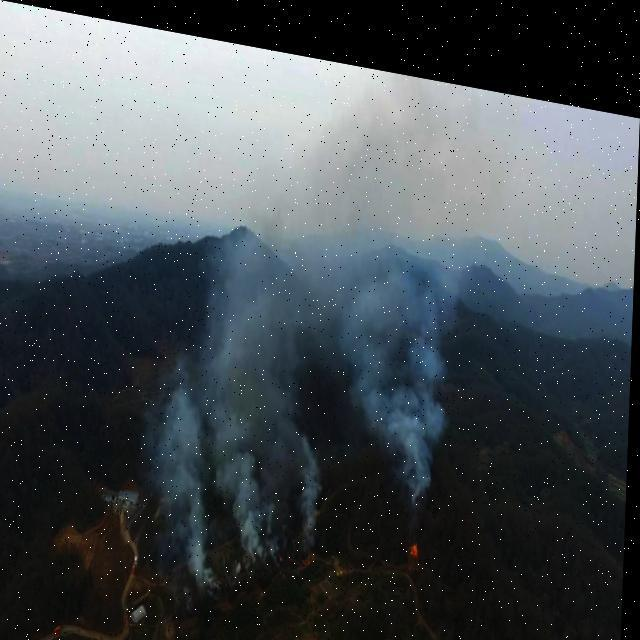Fire: (254, 479, 325, 589), (396, 496, 440, 582)
